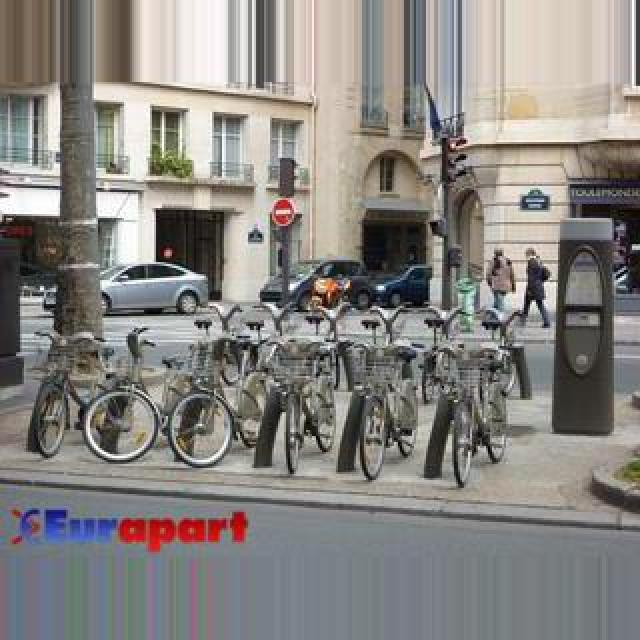Bus-Bike: (42, 262, 210, 318), (258, 258, 368, 310), (370, 266, 432, 308)
MC-Bike: (520, 248, 554, 330), (488, 248, 514, 312)
Person: (422, 306, 514, 488), (258, 304, 346, 474), (164, 306, 256, 468), (26, 330, 128, 460), (352, 306, 422, 480), (80, 328, 162, 462), (232, 314, 300, 464), (298, 336, 344, 466), (476, 306, 532, 402)
